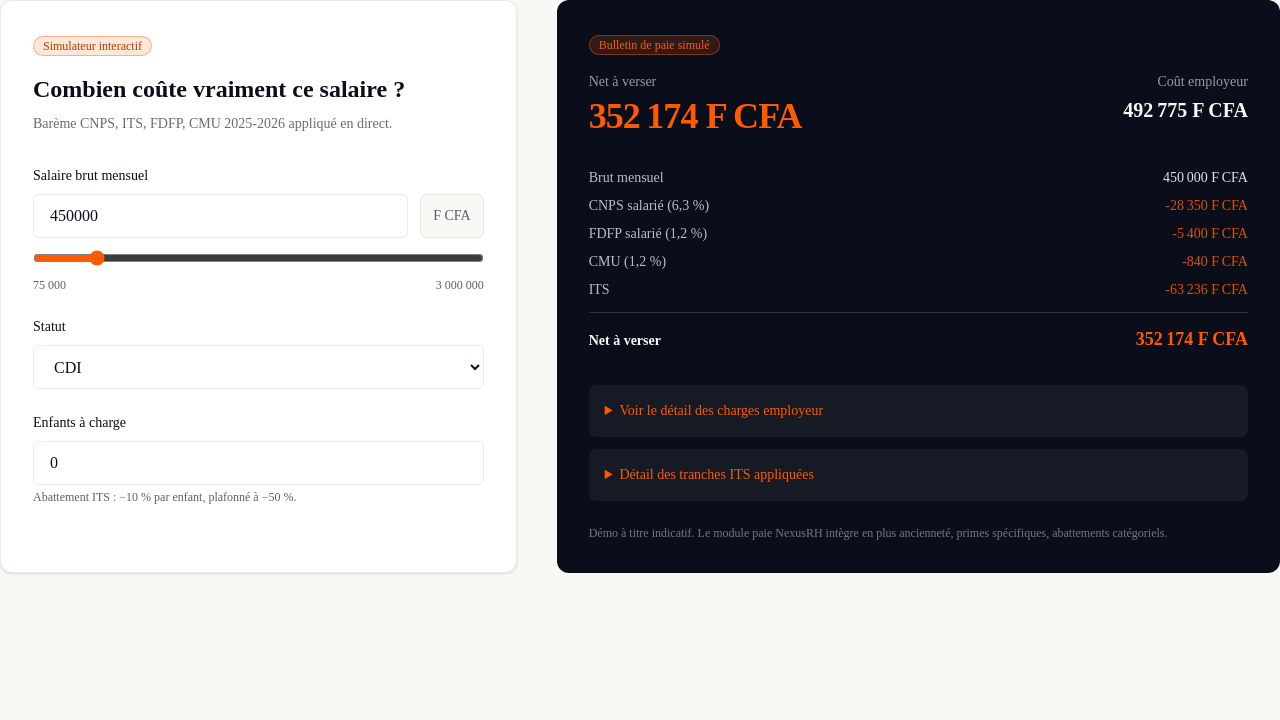
Test case: NexusRhDemo (simulateur paie) › le brut tombe à 0 si saisie vide / non numérique
Step 1. Clear the number field named "Salaire brut en F CFA" → (221, 216), box top-left (33, 194), bottom-right (408, 238)
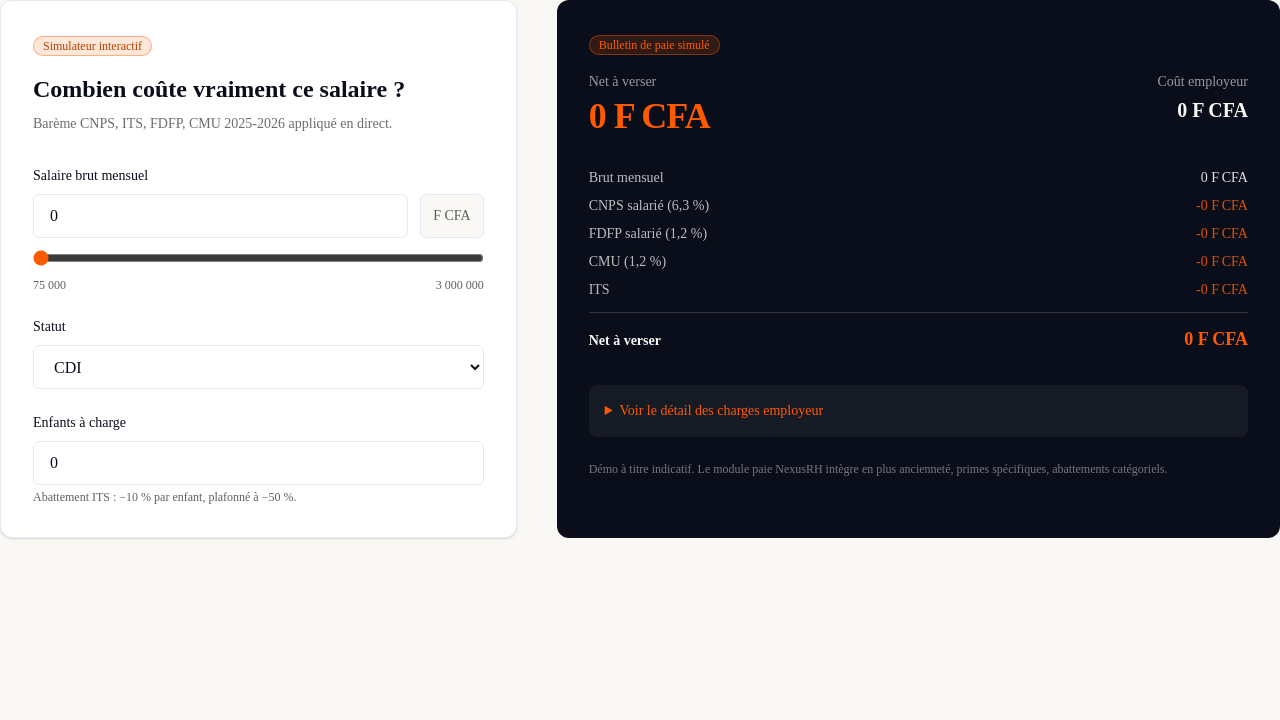
Check: the number field named "Salaire brut en F CFA" holds "0", box top-left (33, 194), bottom-right (408, 238)
